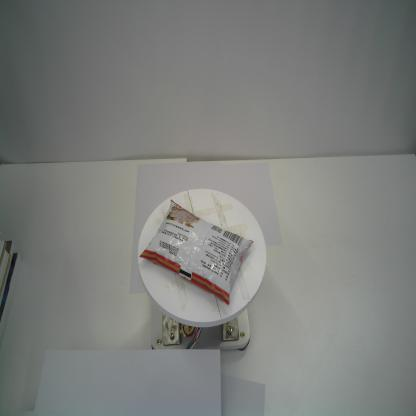Seasoner: (138, 195, 254, 307)
